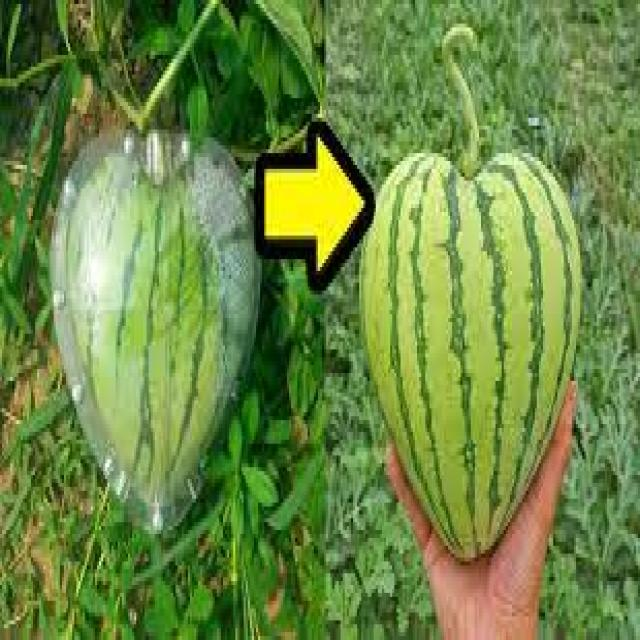watermelon: (357, 142, 582, 562), (48, 122, 262, 534)
